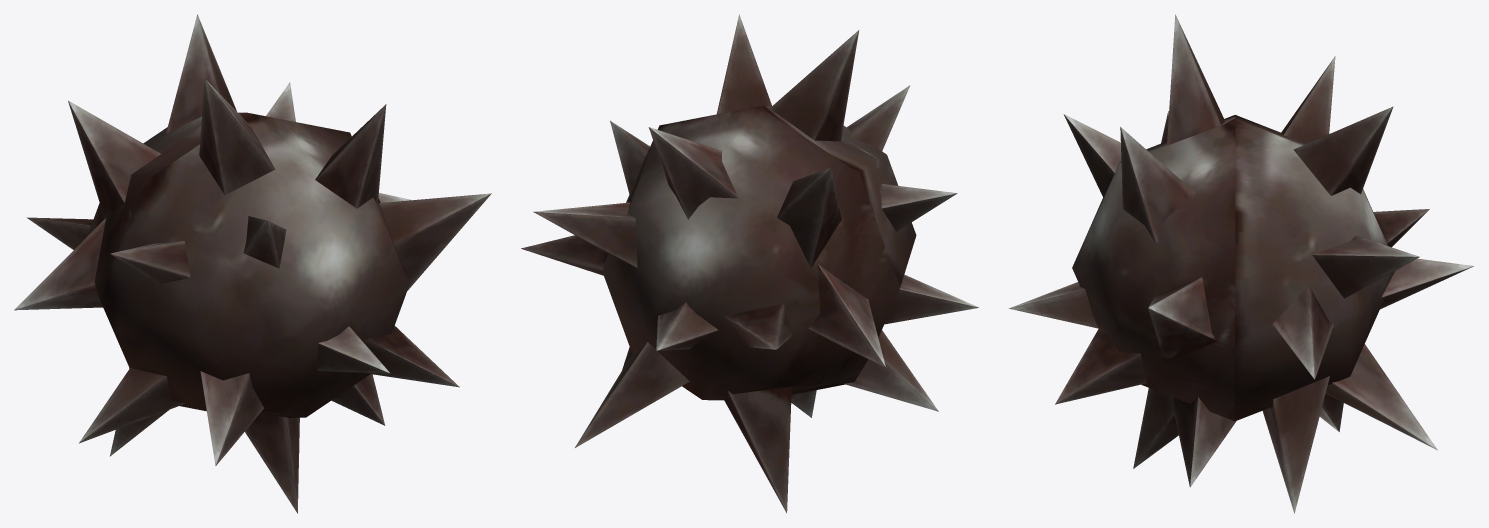
Rendered from spike_ball.fbx.
3 views of the same model, side by side, from view 1: azimuth 30°, elevation 25°; view 2: azimuth 150°, elevation 25°; view 3: azimuth 270°, elevation 25° (orthographic). The views are drawn at different scales.
Visible parts, largest first — view 1: Sturmbeorn_Boss_Mat/Sturmbeorn_Boss_Armor_Mat; view 2: Sturmbeorn_Boss_Mat/Sturmbeorn_Boss_Armor_Mat; view 3: Sturmbeorn_Boss_Mat/Sturmbeorn_Boss_Armor_Mat.
Part boxes in pixels (<box>): Sturmbeorn_Boss_Mat/Sturmbeorn_Boss_Armor_Mat: <box>14,14,491,513</box>; Sturmbeorn_Boss_Mat/Sturmbeorn_Boss_Armor_Mat: <box>521,14,978,513</box>; Sturmbeorn_Boss_Mat/Sturmbeorn_Boss_Armor_Mat: <box>1009,14,1473,513</box>.
Size of the model in its own units: 1.6 by 1.73 by 1.72.
